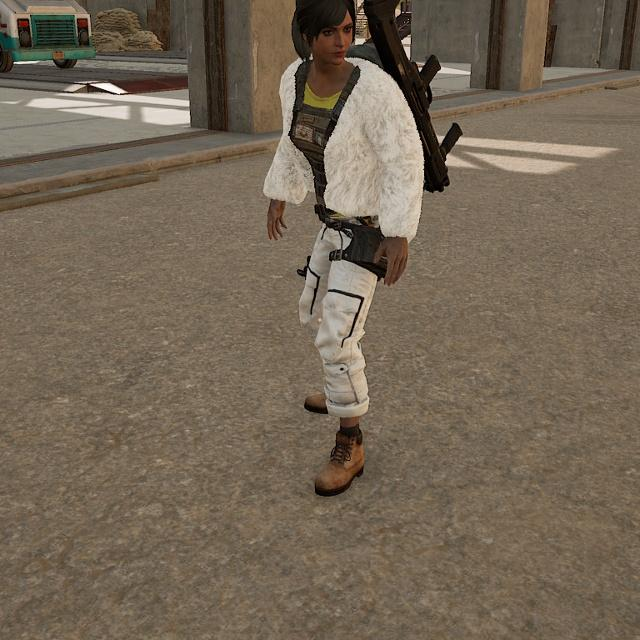head: (290, 0, 370, 74)
people: (262, 2, 437, 503)
